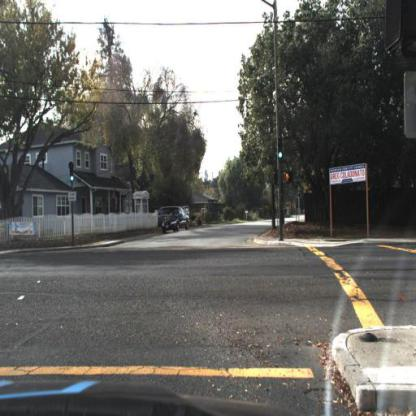car: (163, 210, 192, 235)
trafficLight: (70, 163, 75, 183)
trafficLight-Green: (278, 147, 284, 170)
